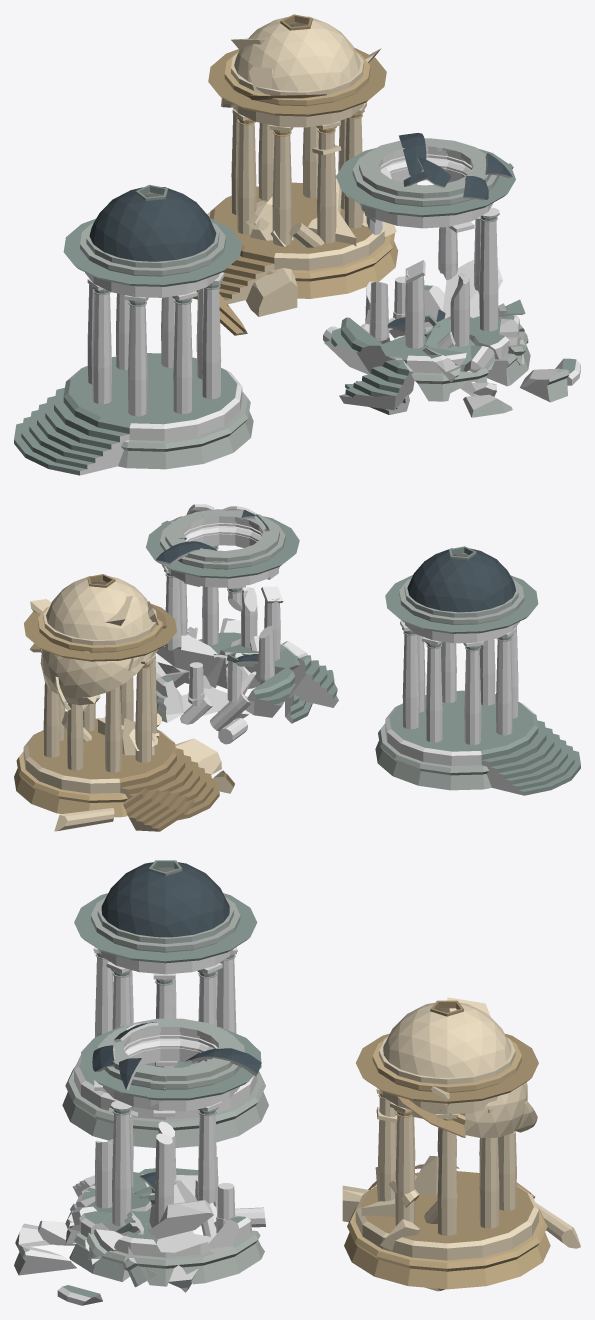
File: dest.arqui1.fbx
The picture shows the model from 3 angles, top to bottom: view 1: azimuth 30°, elevation 25°; view 2: azimuth 150°, elevation 25°; view 3: azimuth 270°, elevation 25°; orthographic projection. The views are drawn at different scales.
Visible parts, largest first — view 1: Cylinder.004_cell.092, Cylinder.007, Cylinder.004; view 2: Cylinder.004_cell.092, Cylinder.007, Cylinder.004; view 3: Cylinder.004_cell.092, Cylinder.004, Cylinder.007.
Boxes of the visible parts, x1,y1,x2,y2 form: Cylinder.004_cell.092: [197, 38, 580, 417]; Cylinder.007: [14, 184, 253, 475]; Cylinder.004: [193, 14, 397, 304]; Cylinder.004_cell.092: [14, 504, 338, 831]; Cylinder.007: [375, 546, 580, 795]; Cylinder.004: [14, 574, 219, 820]; Cylinder.004_cell.092: [14, 997, 580, 1305]; Cylinder.004: [347, 1000, 550, 1289]; Cylinder.007: [62, 860, 268, 1147].
Bounding box in the file's own units: 2614 × 1241 × 2444.
